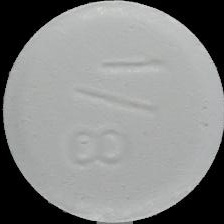0555-0094: (0, 0, 224, 224)
